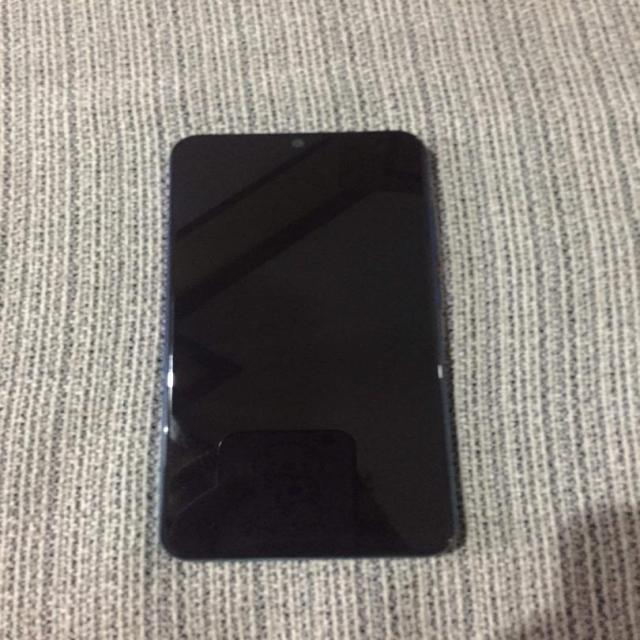mobile phone: (157, 129, 466, 561)
